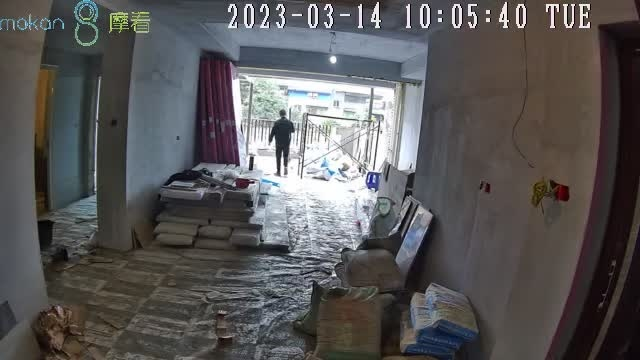people: (268, 110, 294, 177)
window: (241, 74, 390, 183)
